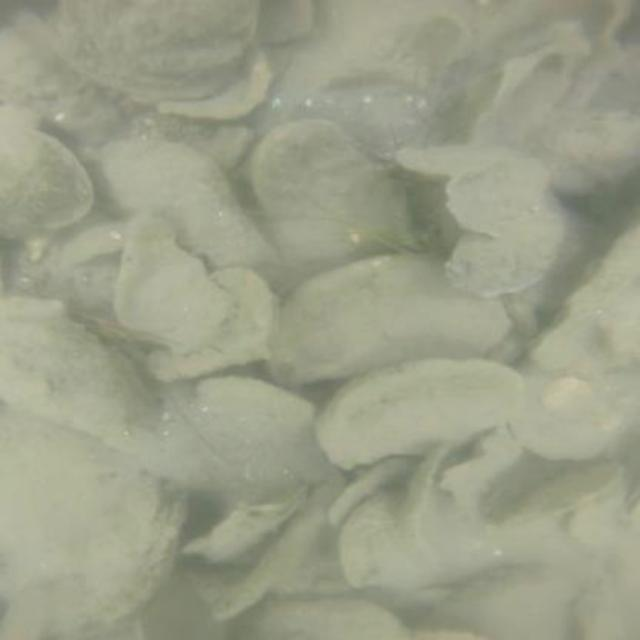Oyster-Closed: (269, 254, 507, 380), (247, 118, 430, 269), (98, 132, 279, 271), (314, 359, 527, 474), (337, 493, 583, 591), (45, 0, 258, 99), (1, 296, 138, 437), (529, 224, 640, 374), (440, 201, 564, 300), (233, 589, 414, 640), (0, 129, 82, 240), (497, 461, 625, 529)
